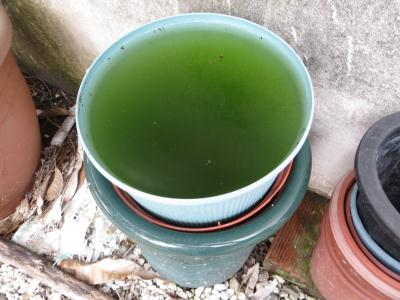bucket: (67, 7, 318, 235)
